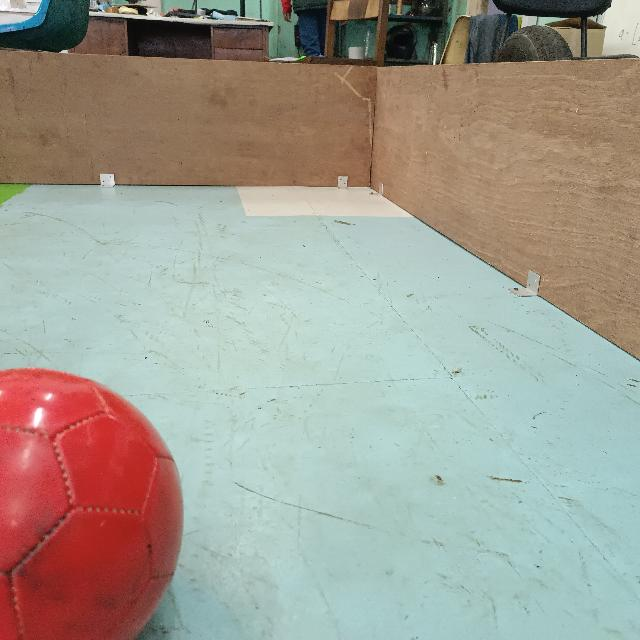R: (0, 362, 194, 640)
